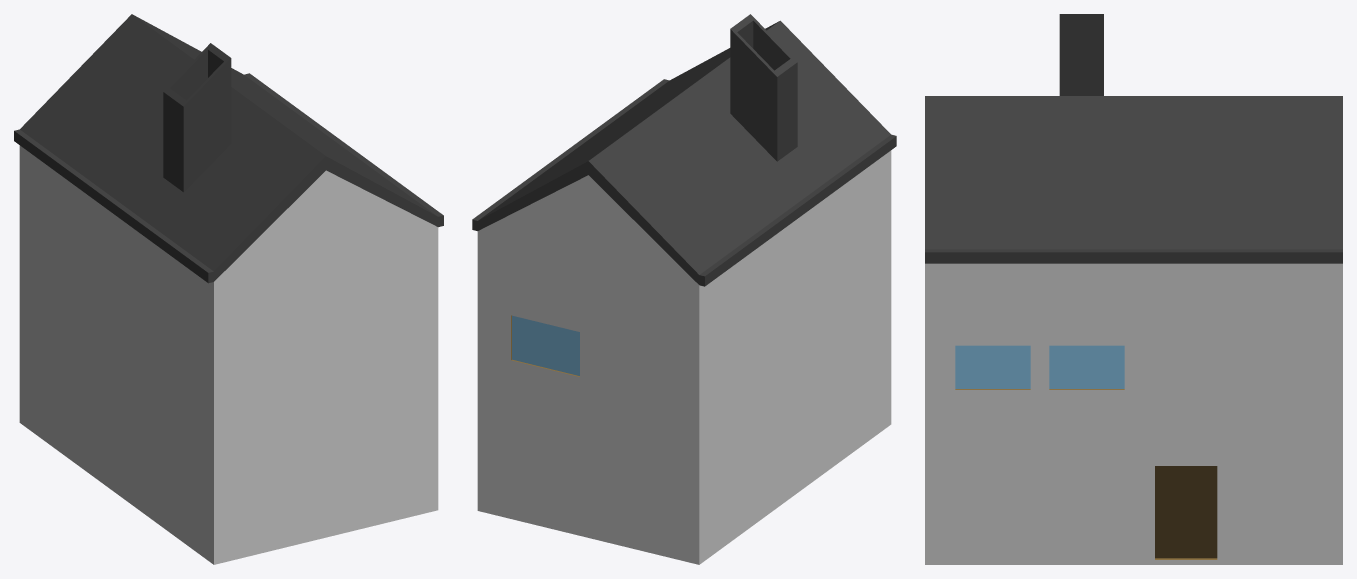
The model's file is HouseC.fbx.
The picture shows the model from 3 angles, left to right: view 1: azimuth 30°, elevation 25°; view 2: azimuth 150°, elevation 25°; view 3: azimuth 270°, elevation 25°; orthographic projection. The views are drawn at different scales.
Parts seen in each view (by area): view 1: Cube; view 2: Cube; view 3: Cube.
Boxes of the visible parts, x1=… form: Cube: x1=14, y1=14, x2=443, y2=564; Cube: x1=472, y1=14, x2=896, y2=564; Cube: x1=925, y1=14, x2=1342, y2=564.
Bounding box in the file's own units: 420 × 753 × 600.
